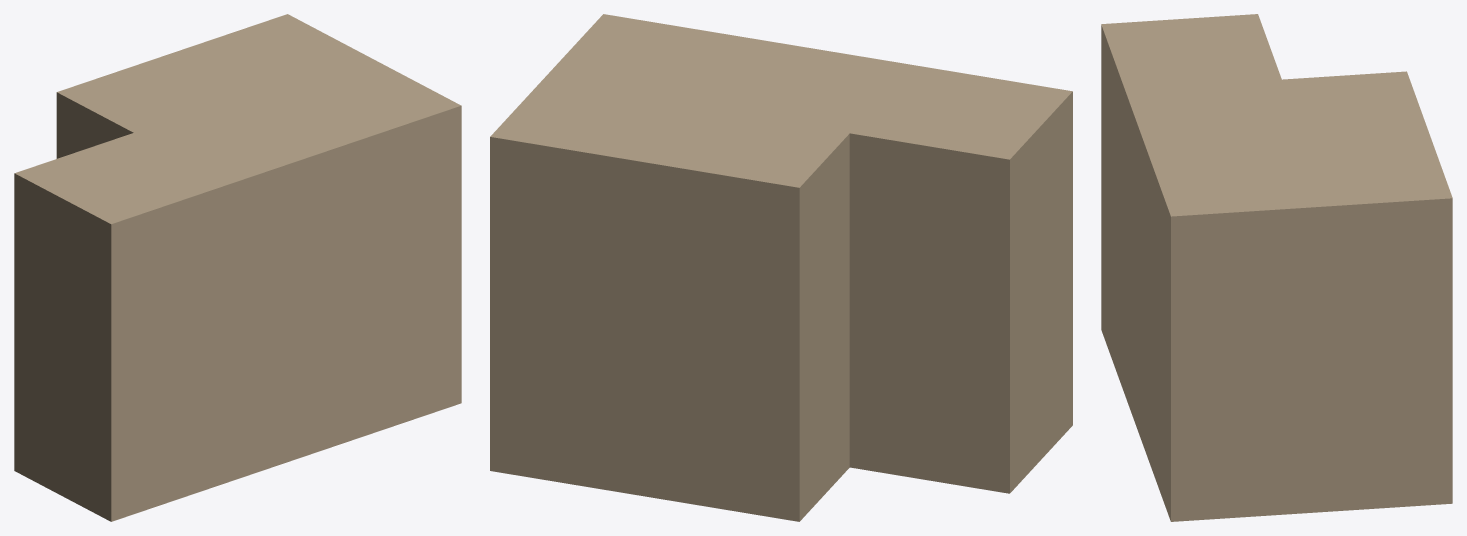
The model's file is bld_109034786.dae.
The picture shows the model from 3 angles, left to right: view 1: azimuth 30°, elevation 25°; view 2: azimuth 150°, elevation 25°; view 3: azimuth 270°, elevation 25°; orthographic projection. The views are drawn at different scales.
Visible parts, largest first — view 1: bld_109034786; view 2: bld_109034786; view 3: bld_109034786.
Boxes of the visible parts, box(x1,y1,x2,y2) form: bld_109034786: box(14, 14, 461, 521); bld_109034786: box(490, 14, 1072, 521); bld_109034786: box(1101, 14, 1452, 521).
Size of the model in its own units: 11.38 by 8.35 by 8.
